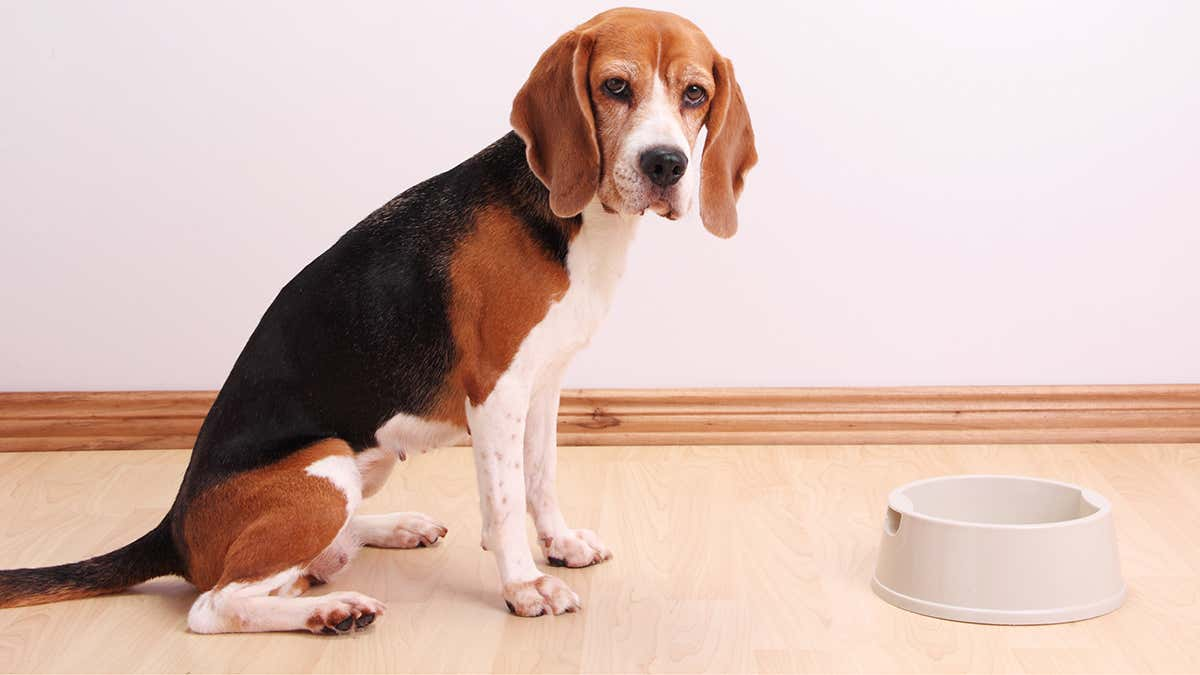dog: (1, 7, 757, 634)
